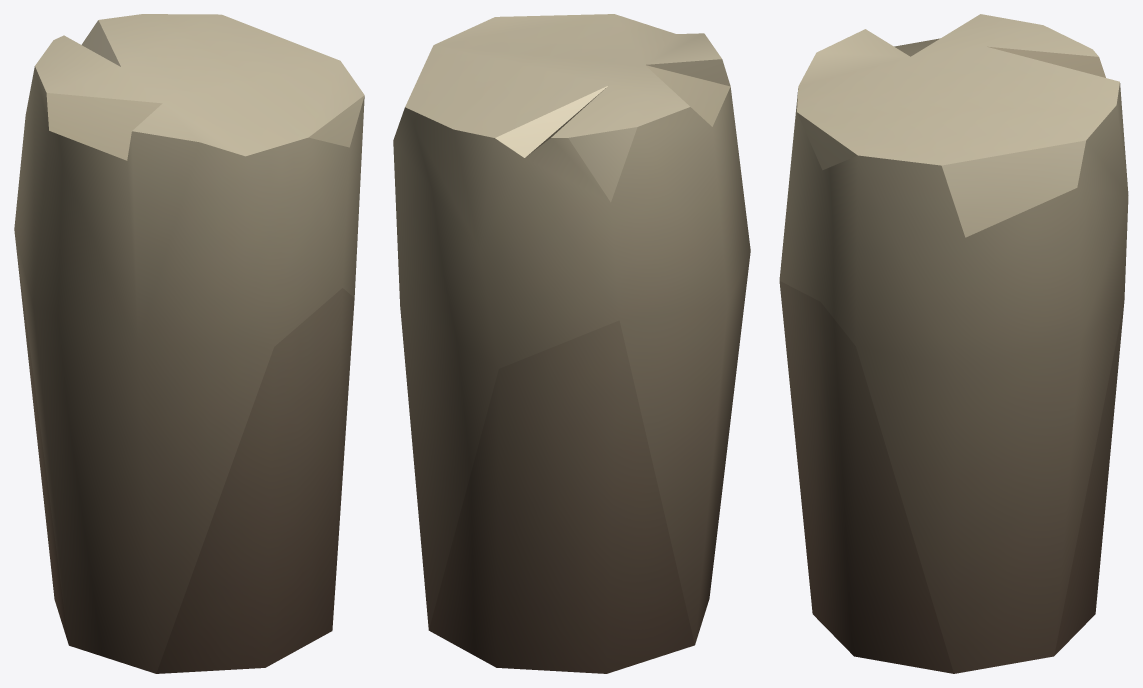
File: Rock_Shrine_1E.fbx
The picture shows the model from 3 angles, left to right: view 1: azimuth 30°, elevation 25°; view 2: azimuth 150°, elevation 25°; view 3: azimuth 270°, elevation 25°; orthographic projection. The views are drawn at different scales.
Visible parts, largest first — view 1: Rock_Shrine_1E; view 2: Rock_Shrine_1E; view 3: Rock_Shrine_1E.
Boxes of the visible parts, x1,y1,x2,y2 form: Rock_Shrine_1E: [14, 14, 364, 673]; Rock_Shrine_1E: [393, 14, 750, 673]; Rock_Shrine_1E: [779, 14, 1128, 673].
Bounding box in the file's own units: 0.5923 × 1.01 × 0.5892.
